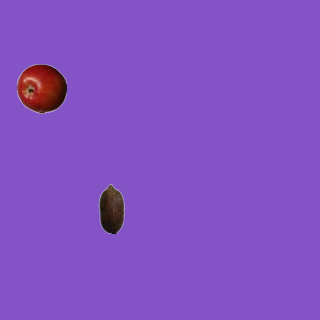Apple Braeburn: (16, 63, 66, 113)
Nut Pecan: (86, 183, 136, 233)
